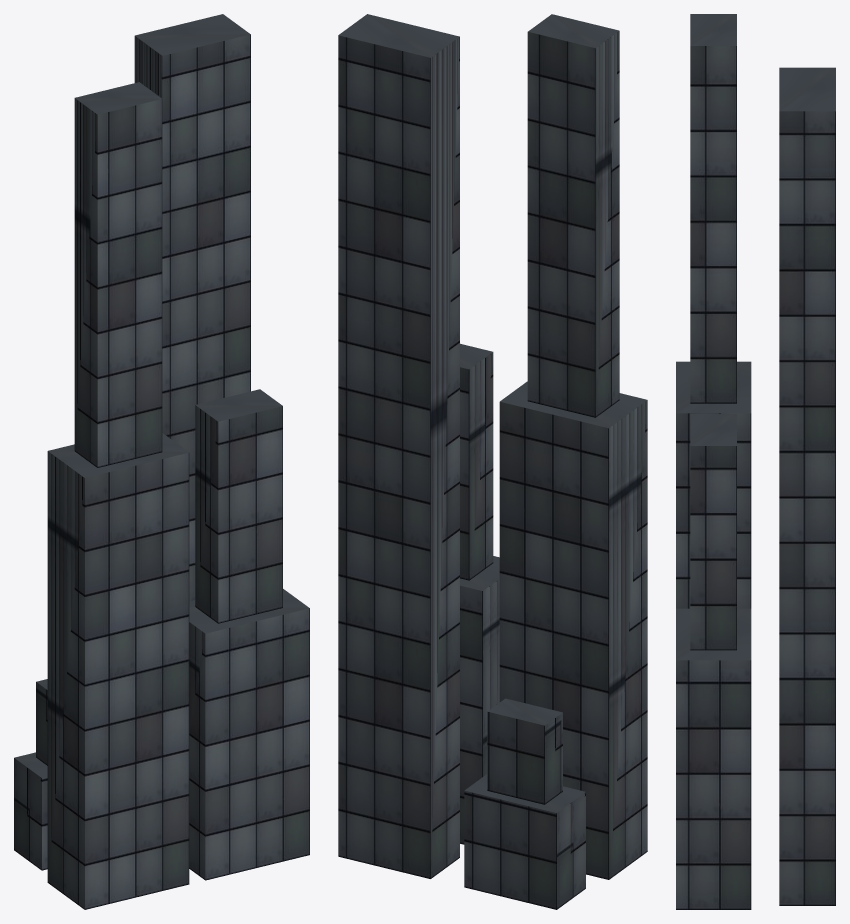
Rendered from block_02.obj.
3 views of the same model, side by side, from view 1: azimuth 30°, elevation 25°; view 2: azimuth 150°, elevation 25°; view 3: azimuth 270°, elevation 25° (orthographic). The views are drawn at different scales.
Parts seen in each view (by area): view 1: b1, b3, b2, b0; view 2: b2, b1, b0, b3; view 3: b2, b3, b1.
Part boxes in pixels (x1,y1,x2,y2): b1: (47,82,189,909); b3: (189,389,309,880); b2: (134,14,250,601); b0: (14,679,47,870); b2: (338,14,459,878); b1: (499,14,647,879); b0: (464,698,585,909); b3: (460,343,499,844); b2: (779,67,835,905); b3: (676,414,751,909); b1: (676,14,751,608).
Size of the model in its own units: 4.2 by 14 by 2.55.
